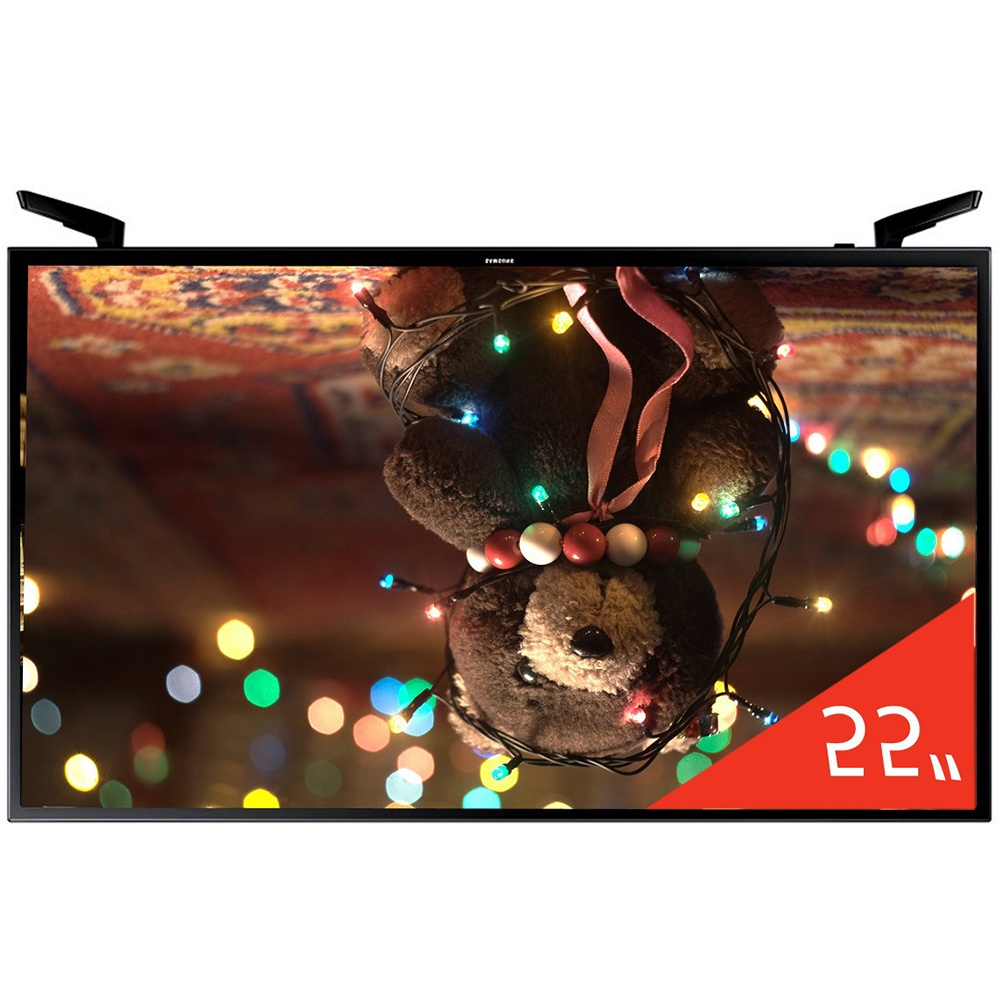SAMSUNG: (415, 153, 632, 316)
